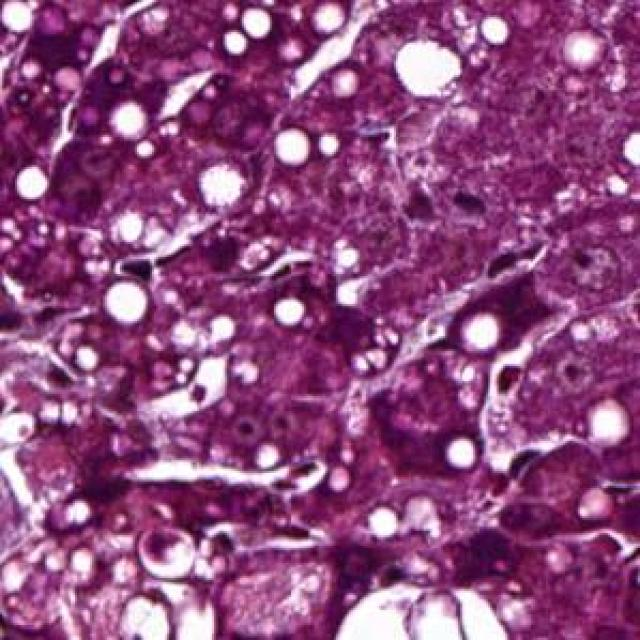ballooning: (330, 576, 514, 640)
